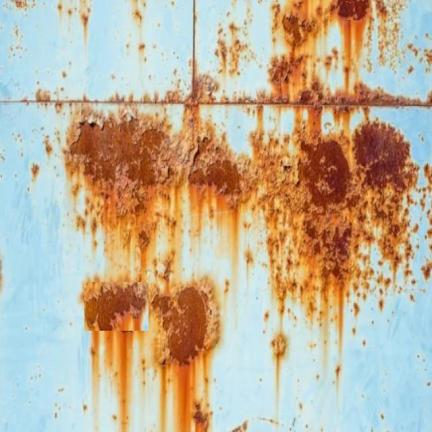karat: (62, 100, 410, 431), (271, 1, 431, 129)
